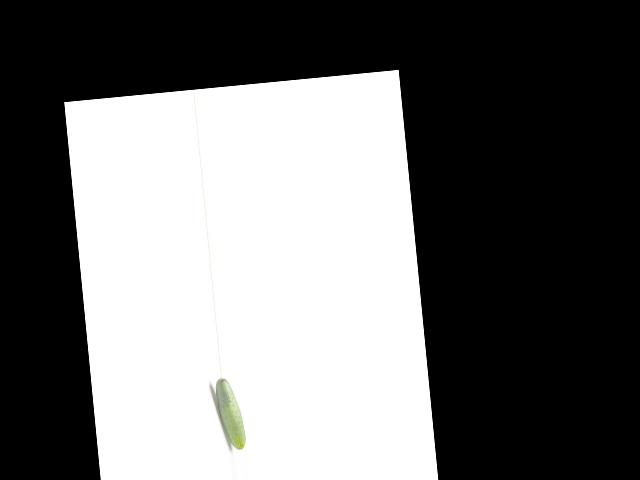cucumber: (213, 375, 246, 451)
